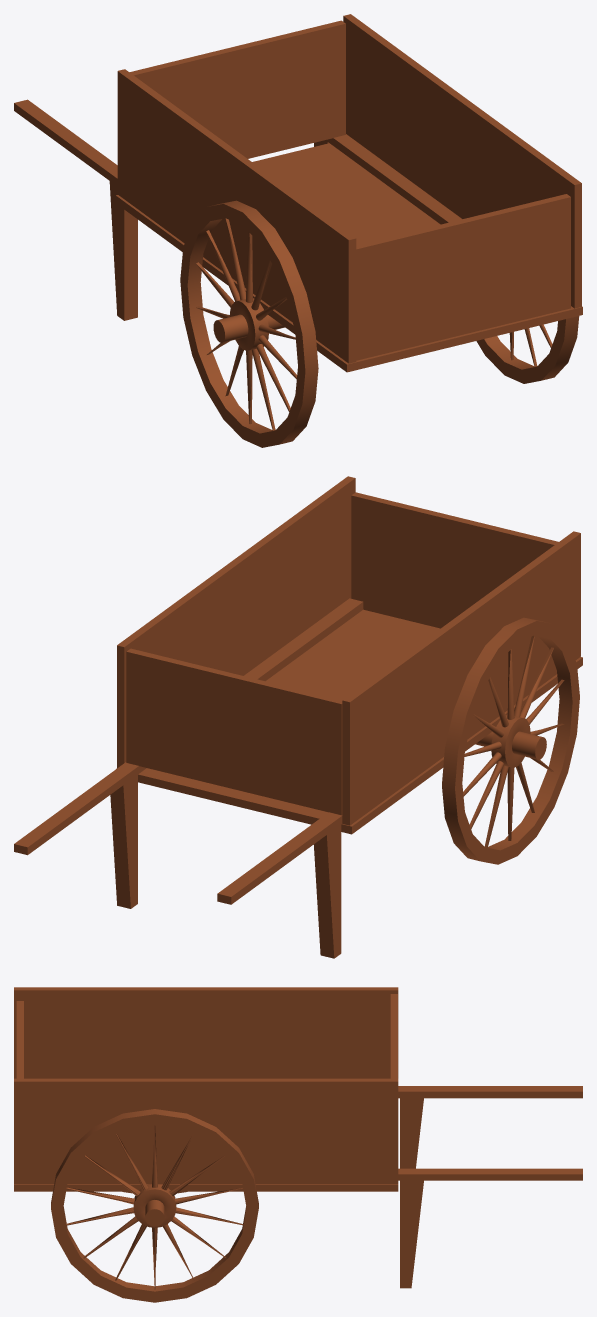
The model's file is tuiche.FBX.
The picture shows the model from 3 angles, top to bottom: view 1: azimuth 30°, elevation 25°; view 2: azimuth 150°, elevation 25°; view 3: azimuth 270°, elevation 25°; orthographic projection. The views are drawn at different scales.
Visible parts, largest first — view 1: Acc_Cart001; view 2: Acc_Cart001; view 3: Acc_Cart001.
Boxes of the visible parts, x1,y1,x2,y2 form: Acc_Cart001: (14, 14, 582, 447); Acc_Cart001: (14, 476, 582, 958); Acc_Cart001: (14, 987, 582, 1302).
Bounding box in the file's own units: 0.9985 × 0.7594 × 1.84.
